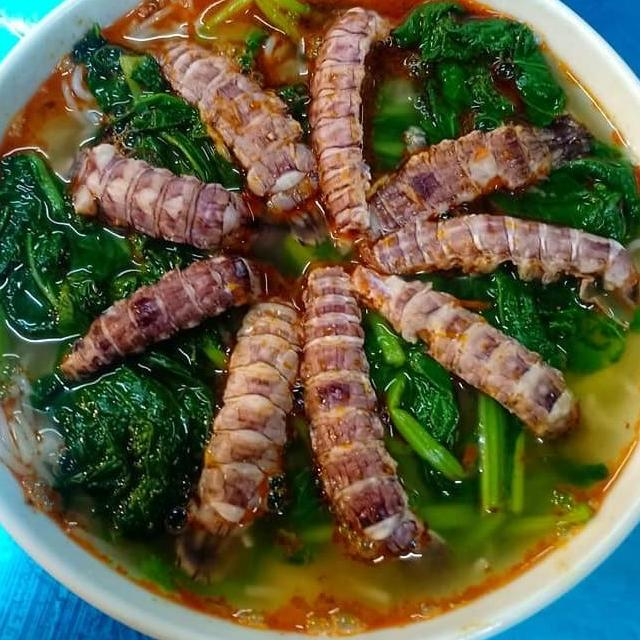bun: (0, 332, 84, 497), (115, 0, 259, 58)
tom tit: (294, 253, 460, 582), (168, 270, 315, 594), (344, 255, 585, 450), (149, 34, 343, 250), (342, 104, 603, 258), (53, 248, 303, 388), (344, 205, 640, 319), (56, 136, 273, 262), (302, 0, 405, 248)
